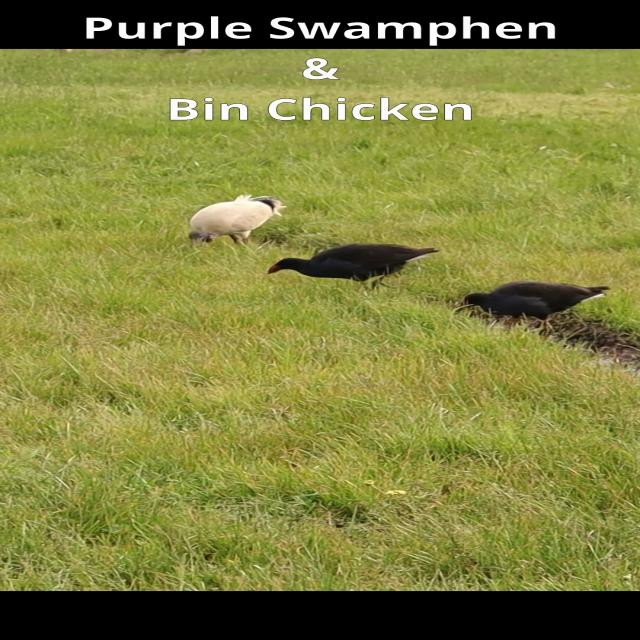Birds-Ibis: (184, 189, 292, 252)
Birds-Other: (265, 240, 441, 297), (456, 278, 614, 330)
